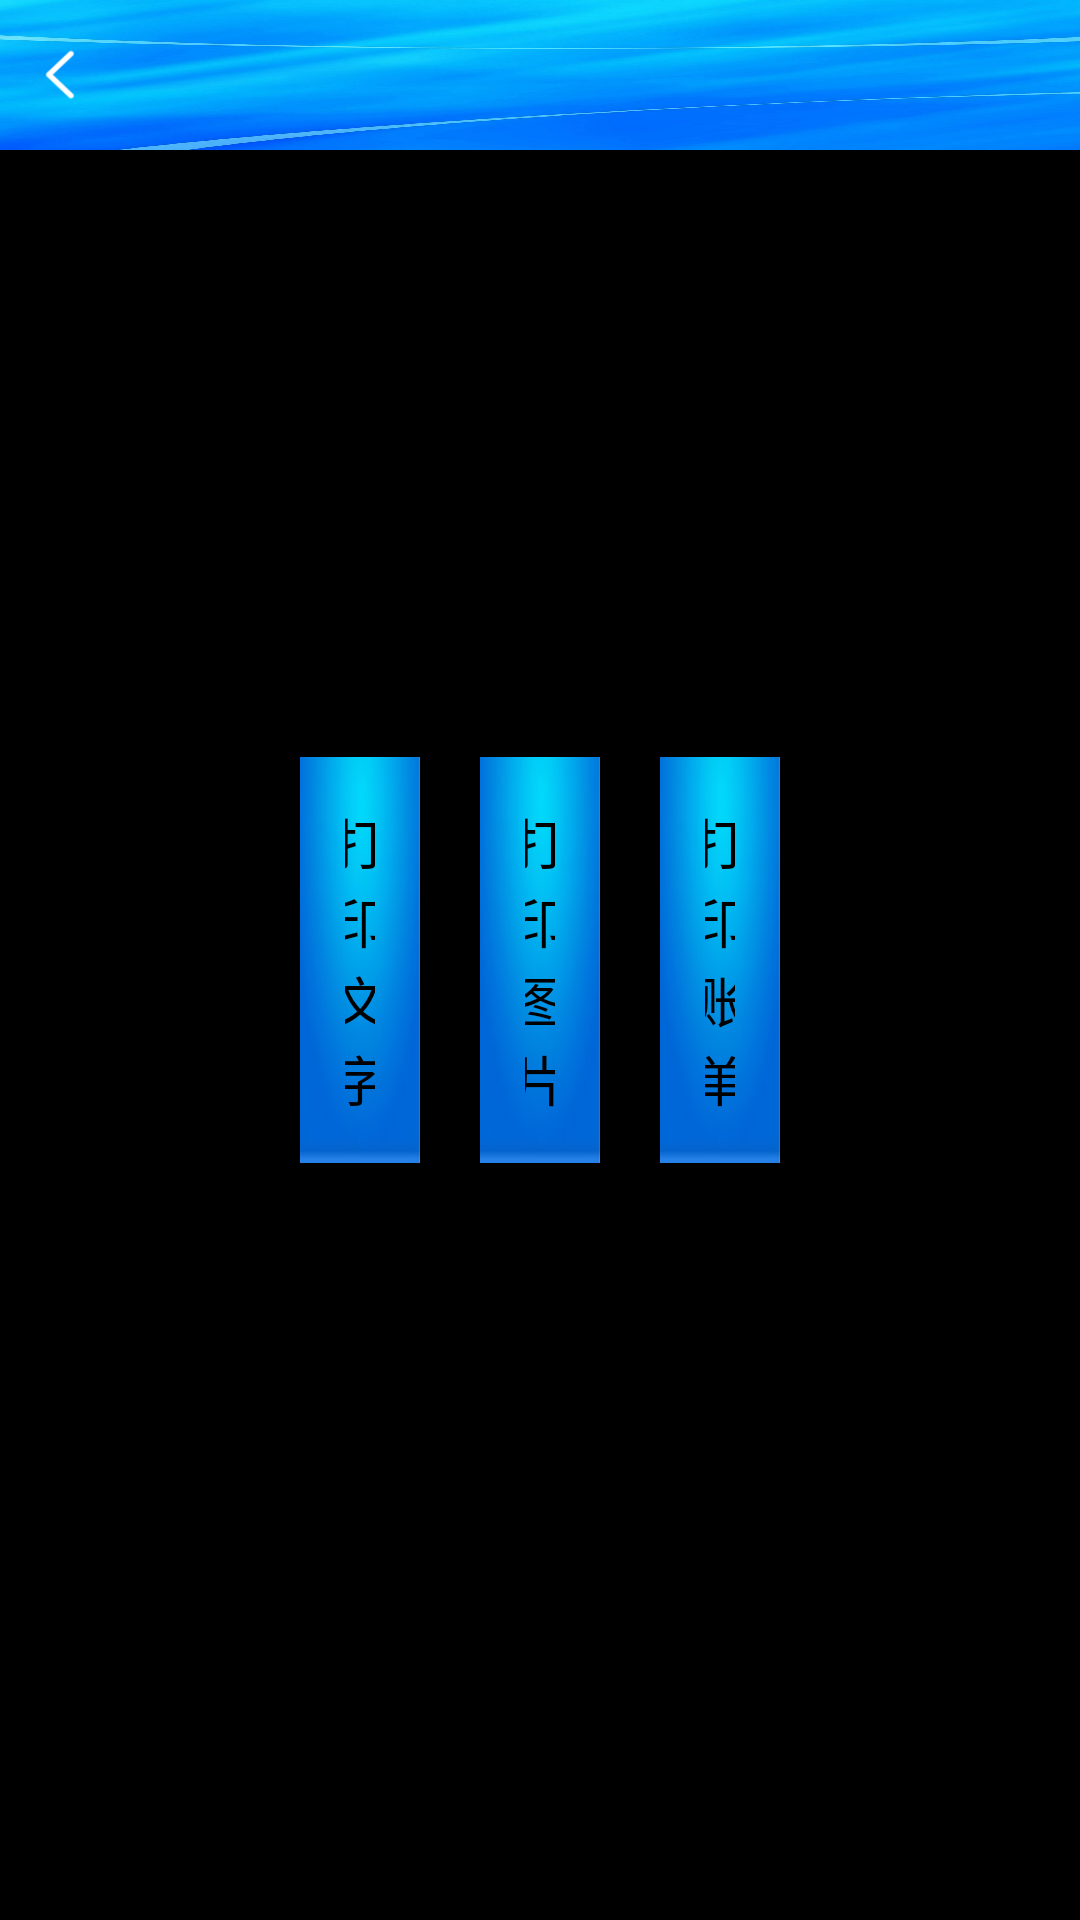

Icons on this 1080w x 1920h Android screen, each with the point to tap as [x,y]:
back: [60,75]
